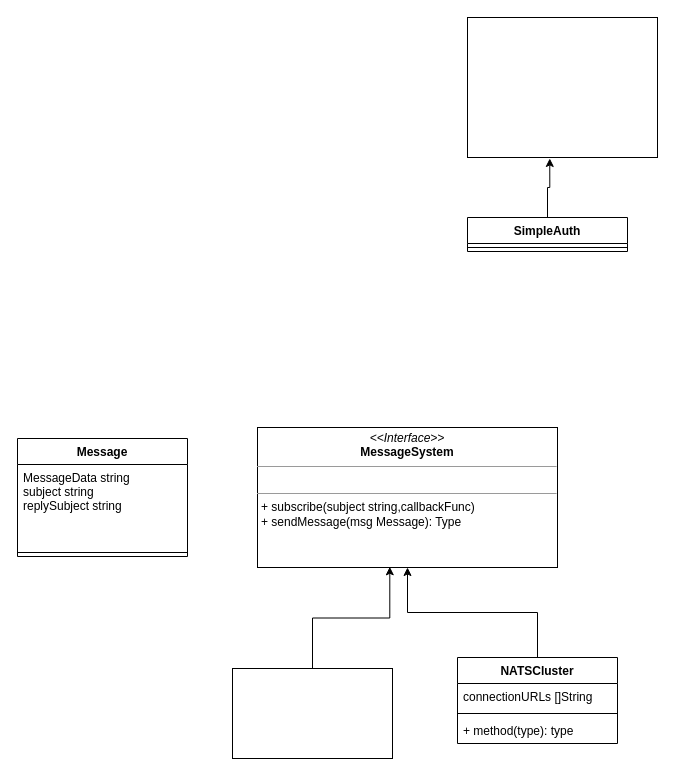
Some shapes in this 675 by 776 pixel diagram are drawn without their labels. Each missing label, with the centre of its shape:
"<<Interface>> AuthSystem + validateRegistration()" goes at (562,87).
"AwsSQS" goes at (312,713).
